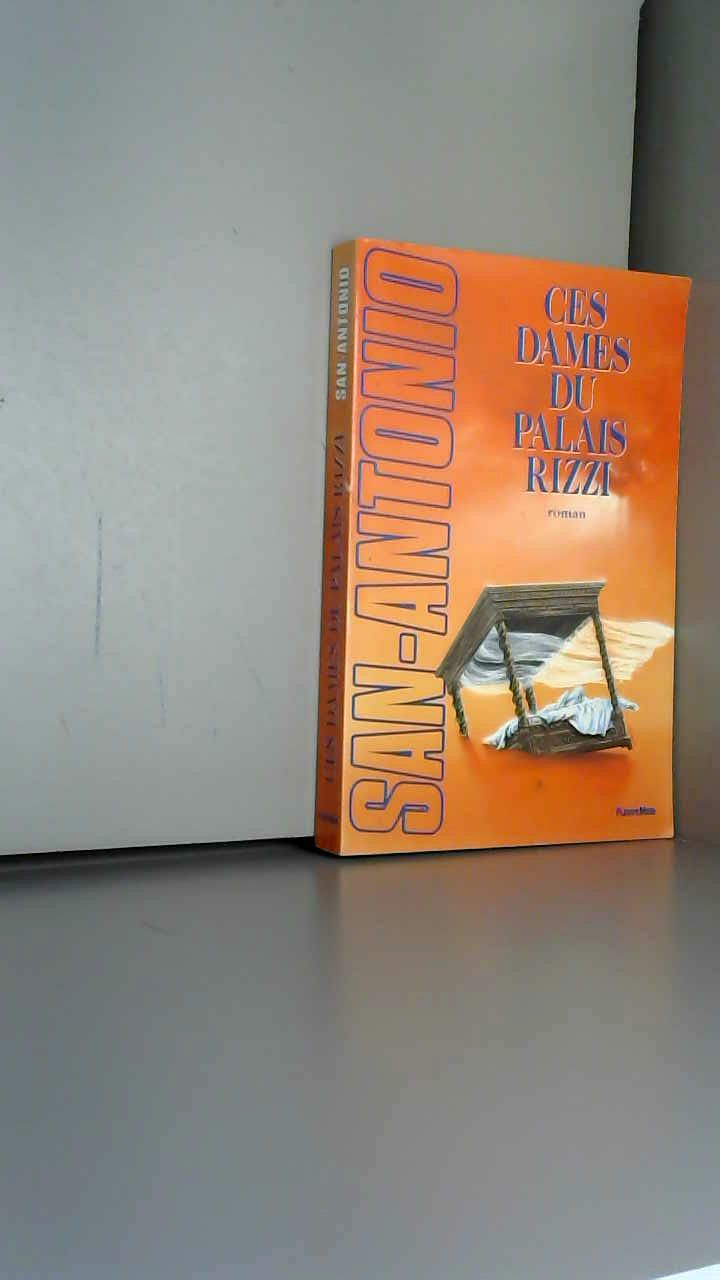book: (290, 210, 720, 913)
